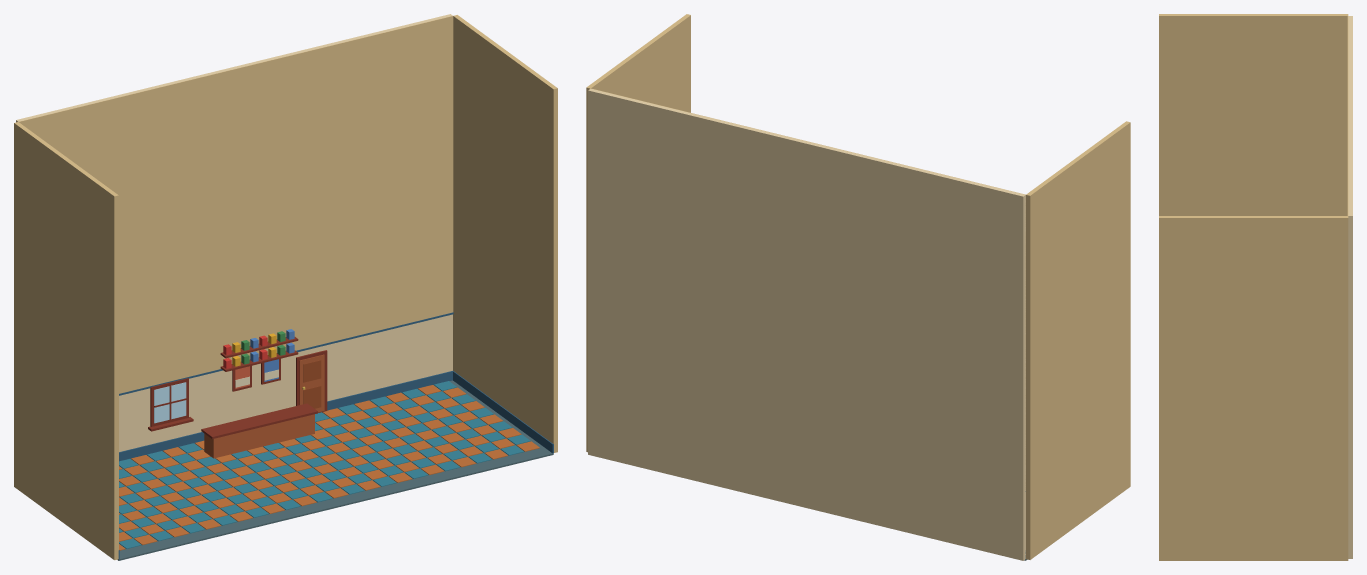
Rendered from room_oriente_shop.glb.
3 renders of one model, left to right at view 1: azimuth 30°, elevation 25°; view 2: azimuth 150°, elevation 25°; view 3: azimuth 270°, elevation 25°, orthographic. The views are drawn at different scales.
Parts seen in each view (by area): view 1: room; view 2: room; view 3: room.
Part boxes in pixels (x1,y1,x2,y2): room: (14, 14, 557, 560); room: (586, 14, 1130, 560); room: (1159, 14, 1352, 560).
Bounding box in the file's own units: 30.6 × 24.11 × 12.3.
